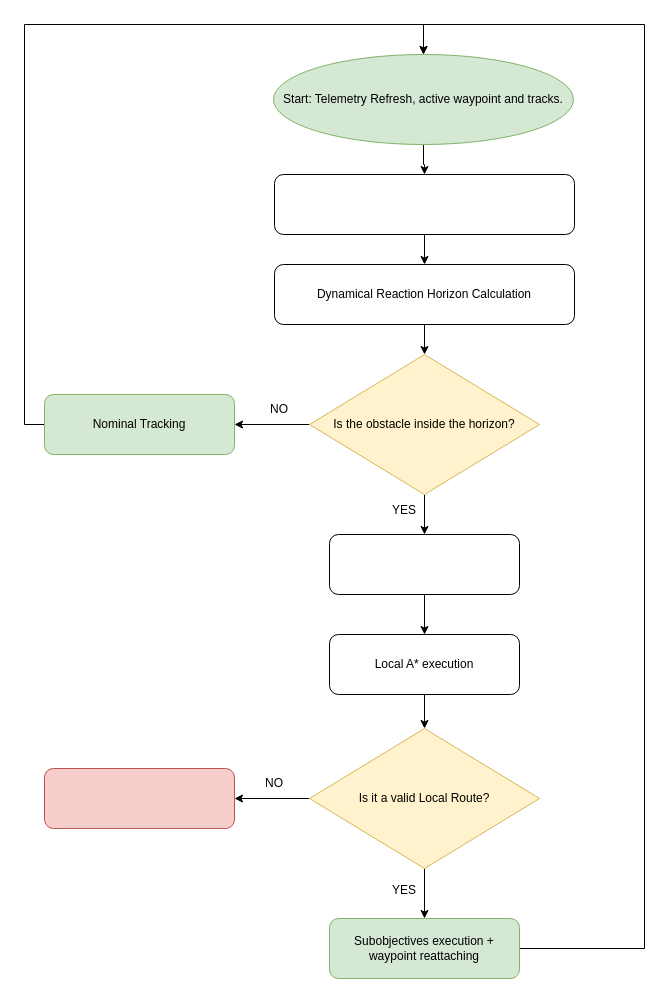
Image size: 670x996. Some labels were removed from this diagram. The shapes that lost their labels are listed below. From the top down, each one's centre as x and y in pixels, then its label:
pixel 424 204: Canonicalization (person/bicycle/biker) in safety regions
pixel 424 564: Construction of the bounded planner subset
pixel 139 798: Failsafe Escalation Activation
